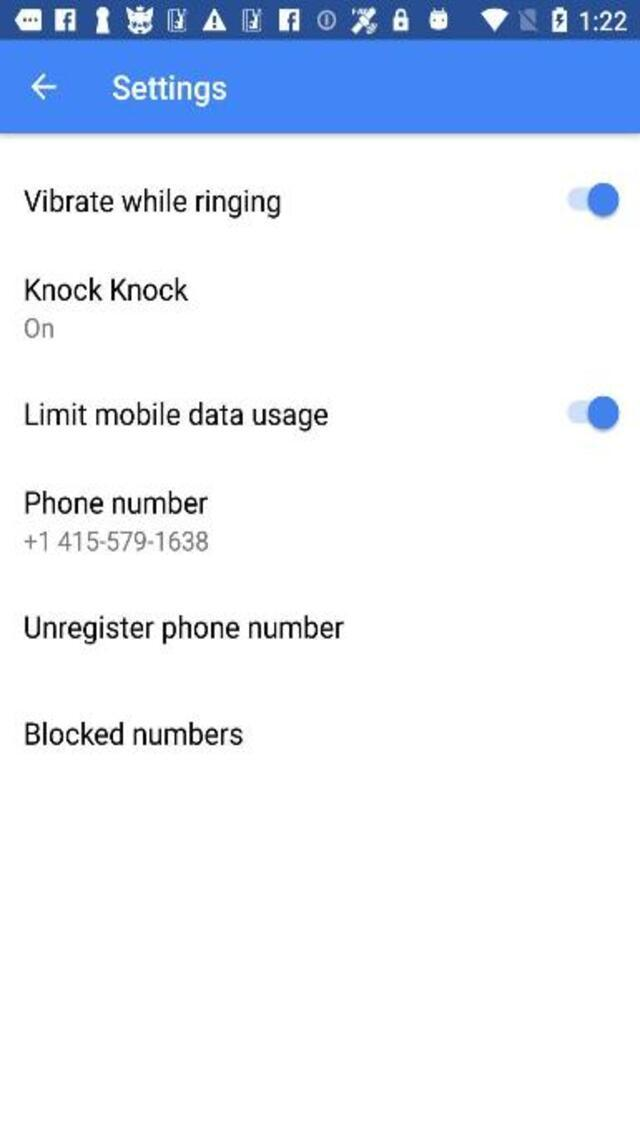CheckedTextView: (563, 389, 622, 434), (568, 177, 621, 224)
Icon: (29, 73, 56, 101)
Text: (25, 614, 344, 644), (25, 401, 328, 431), (25, 190, 281, 220), (25, 721, 244, 744), (25, 490, 208, 513), (25, 276, 188, 300), (24, 530, 209, 551), (113, 74, 226, 106), (24, 317, 52, 337)
